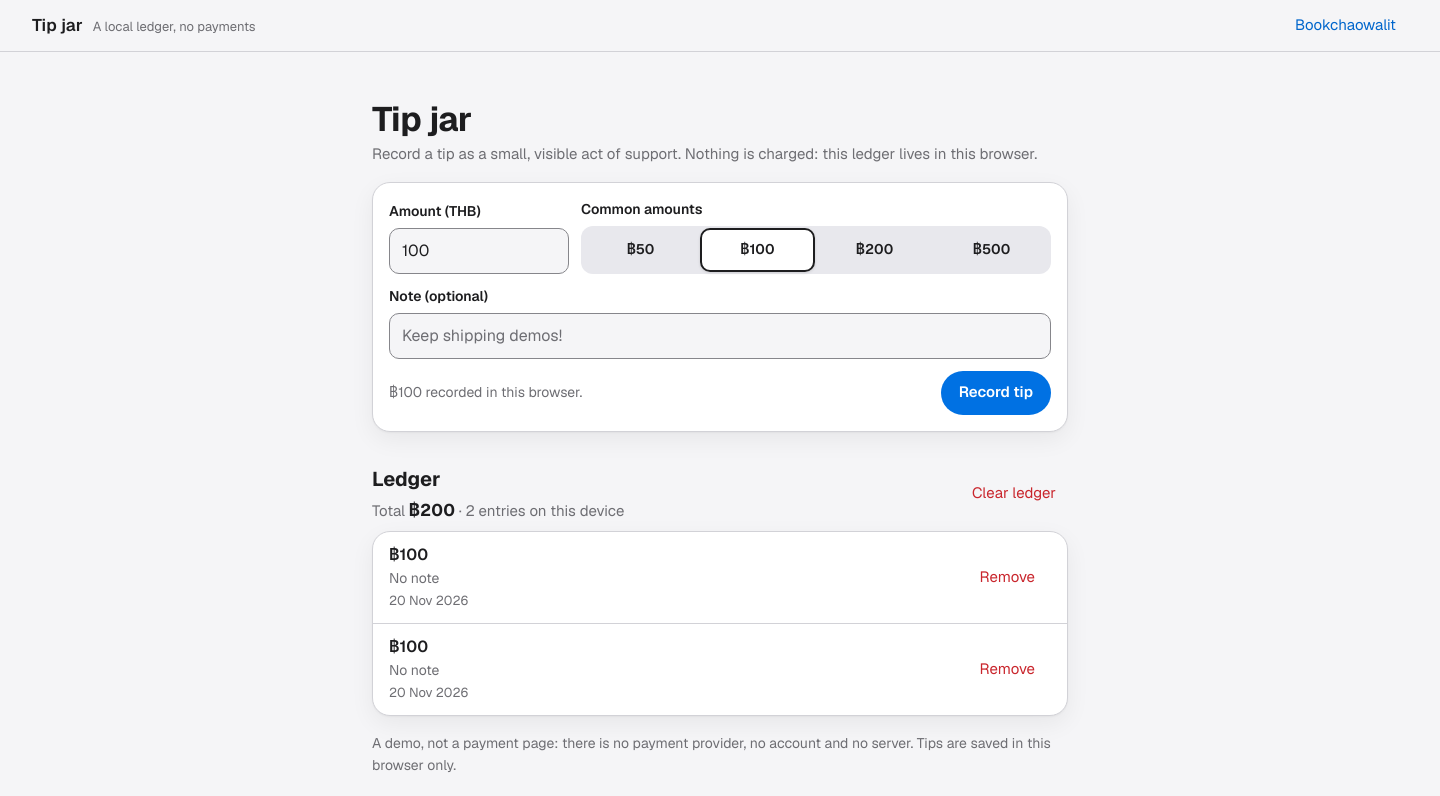
it: remove, clear and undo › Clear ledger is undoable; Escape and the timer close the toast
This screenshot has width=1440, height=796.
Later steps or results of the test are not shown.
Click the button "Clear ledger". click: (1014, 493)
box: [960, 471, 1068, 515]
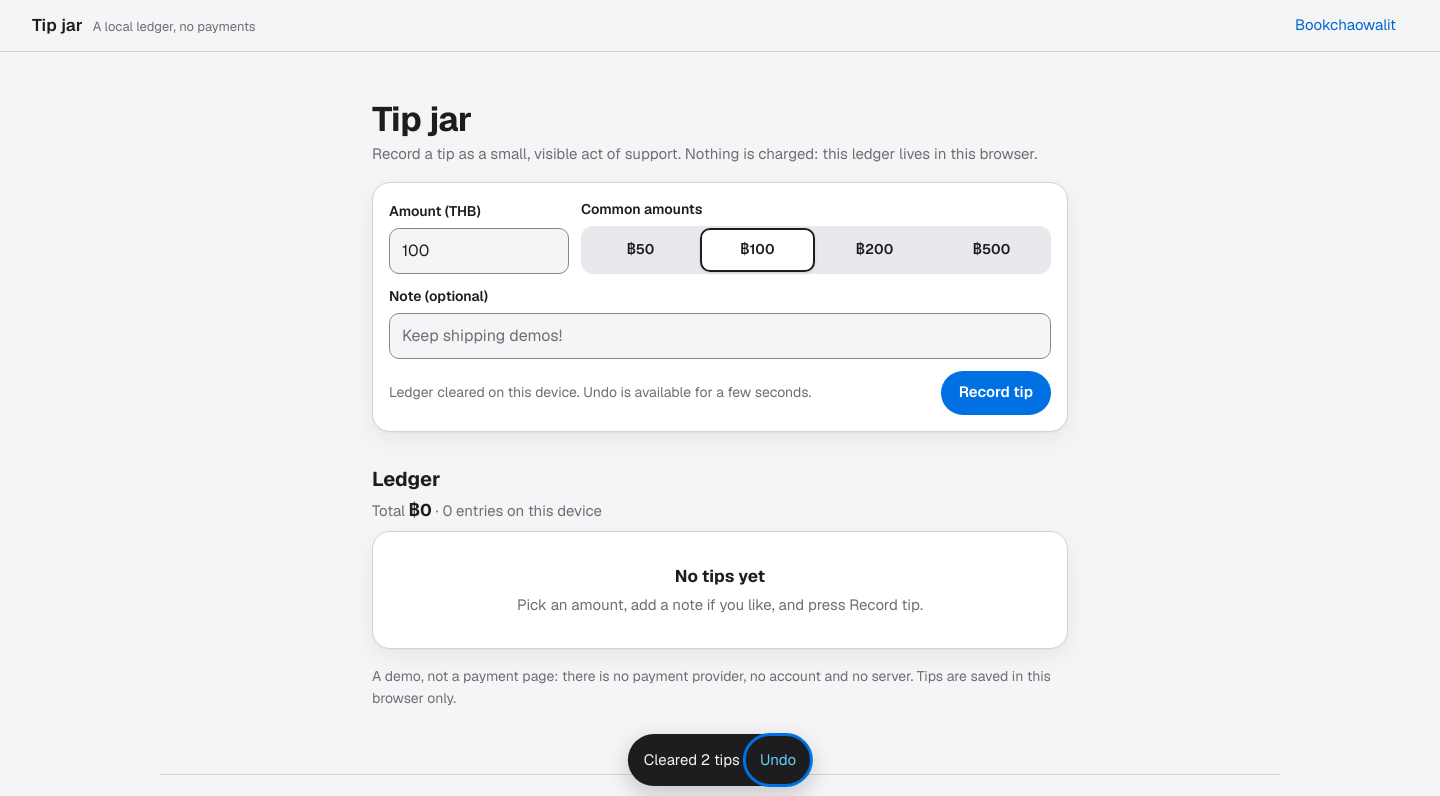
Now the text "No tips yet" is shown, box [675, 565, 765, 587]
Now the text "Cleared 2 tips" is shown, box [644, 749, 740, 771]
Click the button "Undo". click: (778, 760)
box: [748, 738, 808, 782]
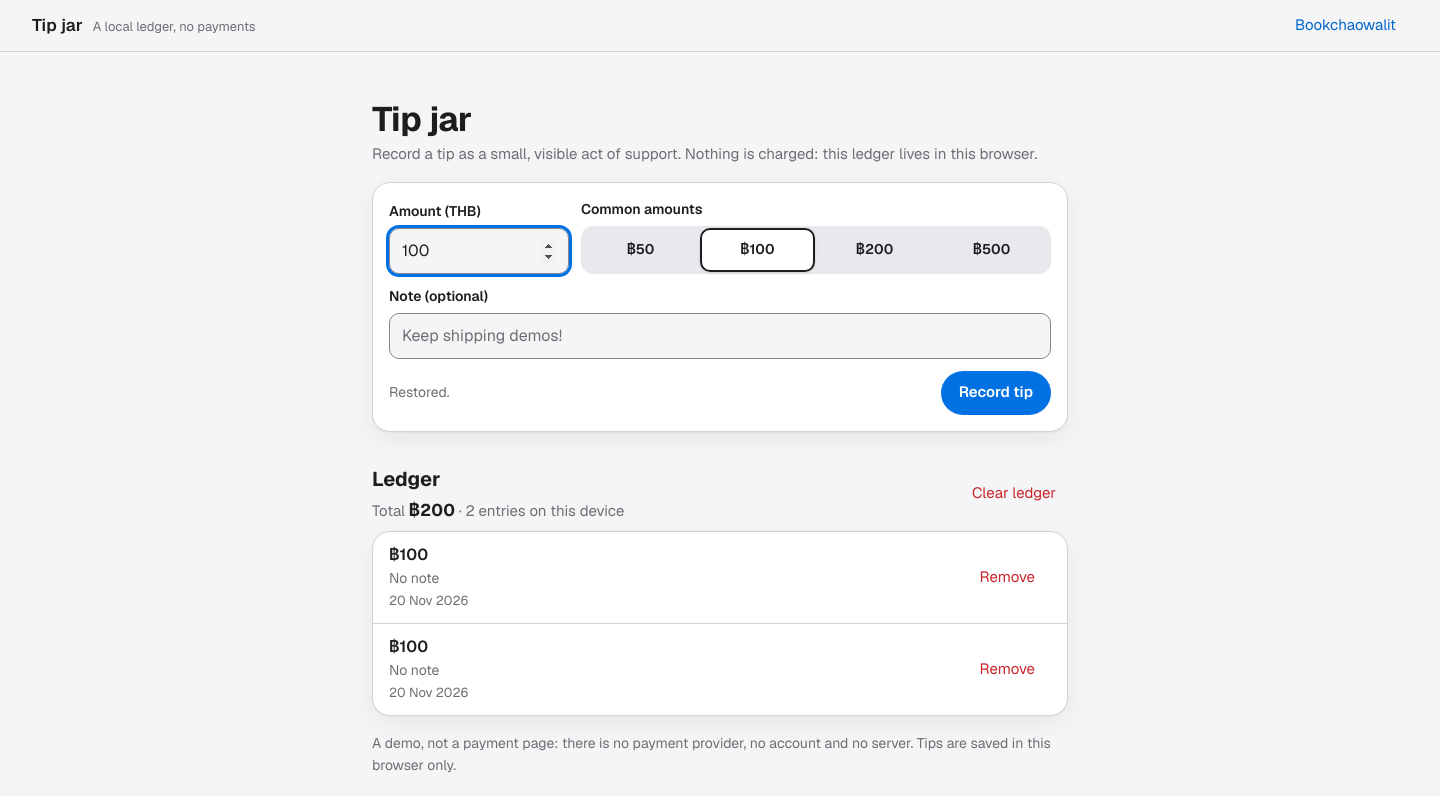
Click the button "Clear ledger". click: (1014, 493)
box: [960, 471, 1068, 515]
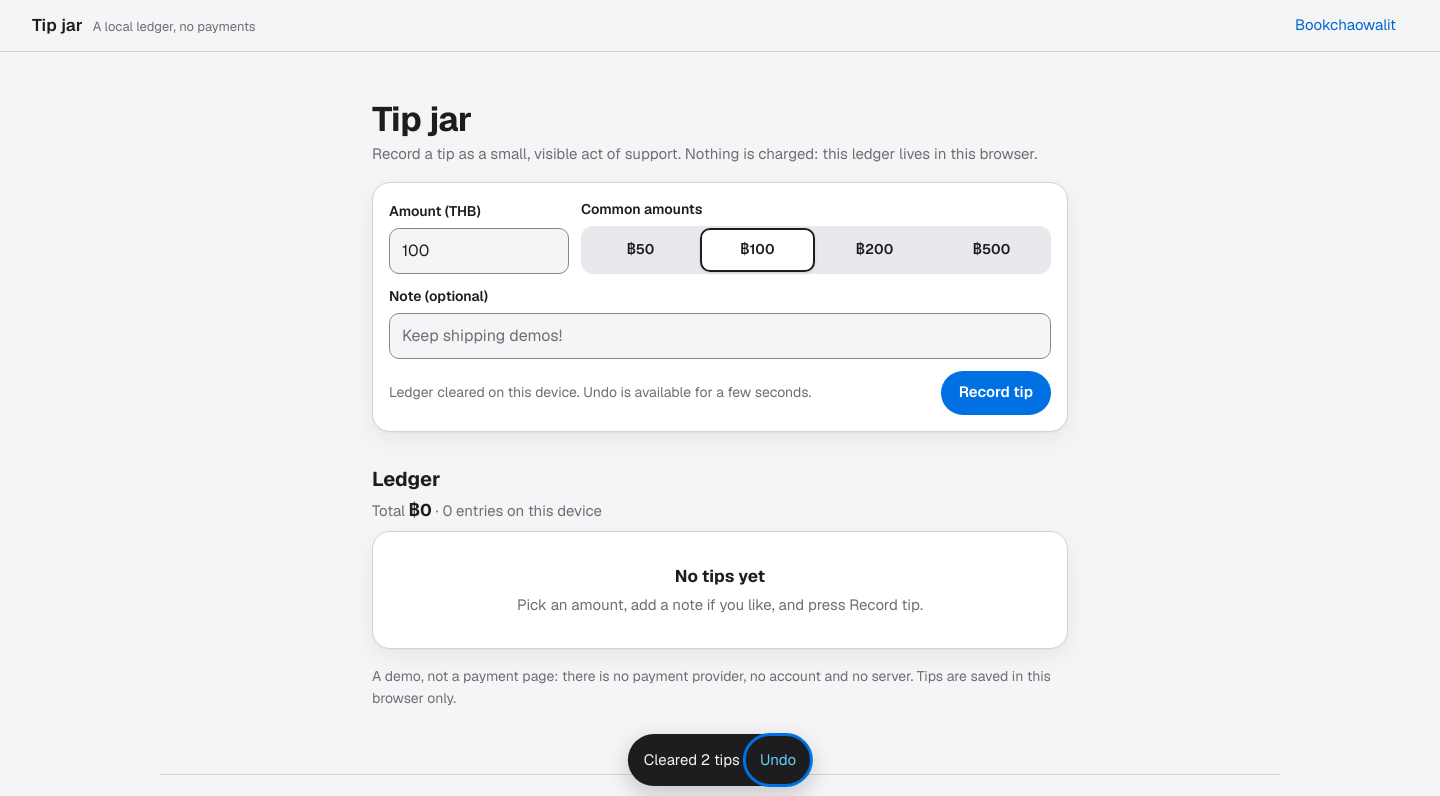
Press Escape in the element with class "as-toast", box [628, 734, 812, 786]
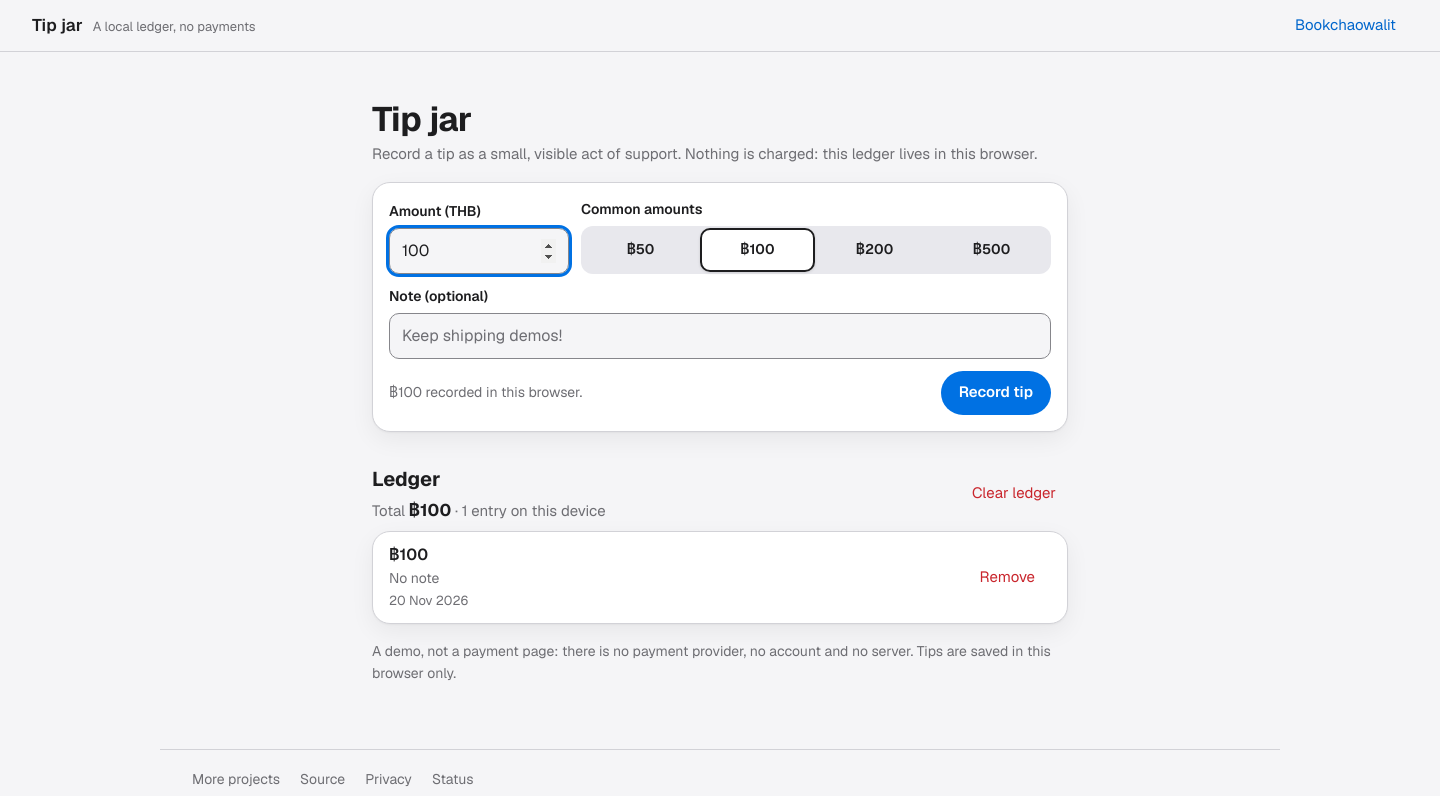
Now the element with class "as-toast" is gone
